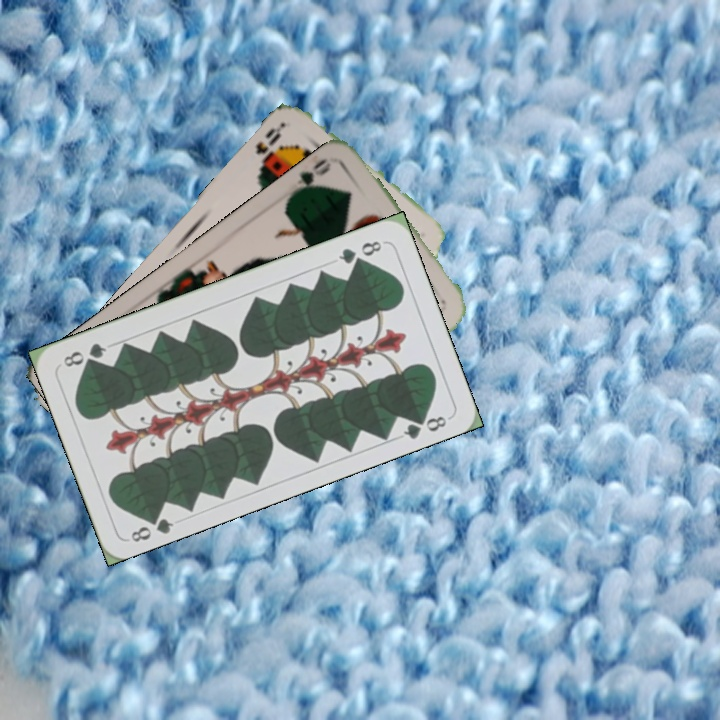G8: (126, 508, 176, 545), (334, 236, 385, 267)
GO: (286, 154, 334, 200)
SO: (251, 119, 287, 175)
